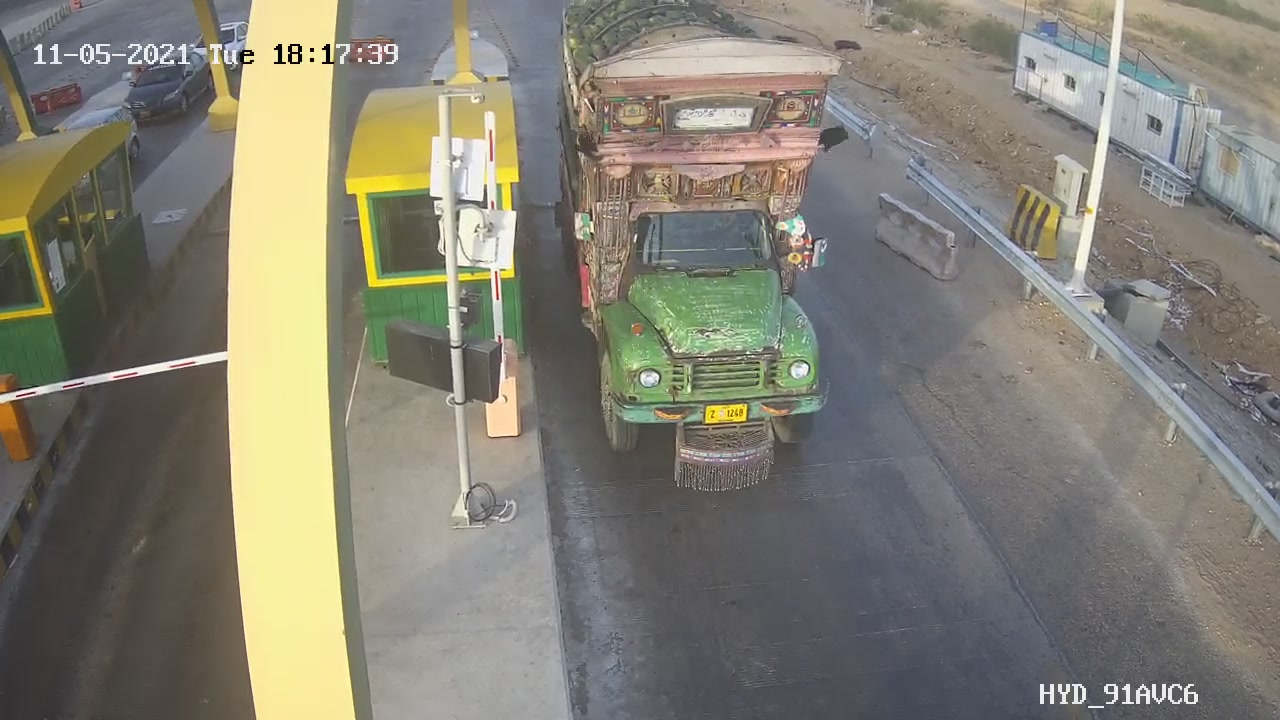F5: (554, 6, 856, 499)
